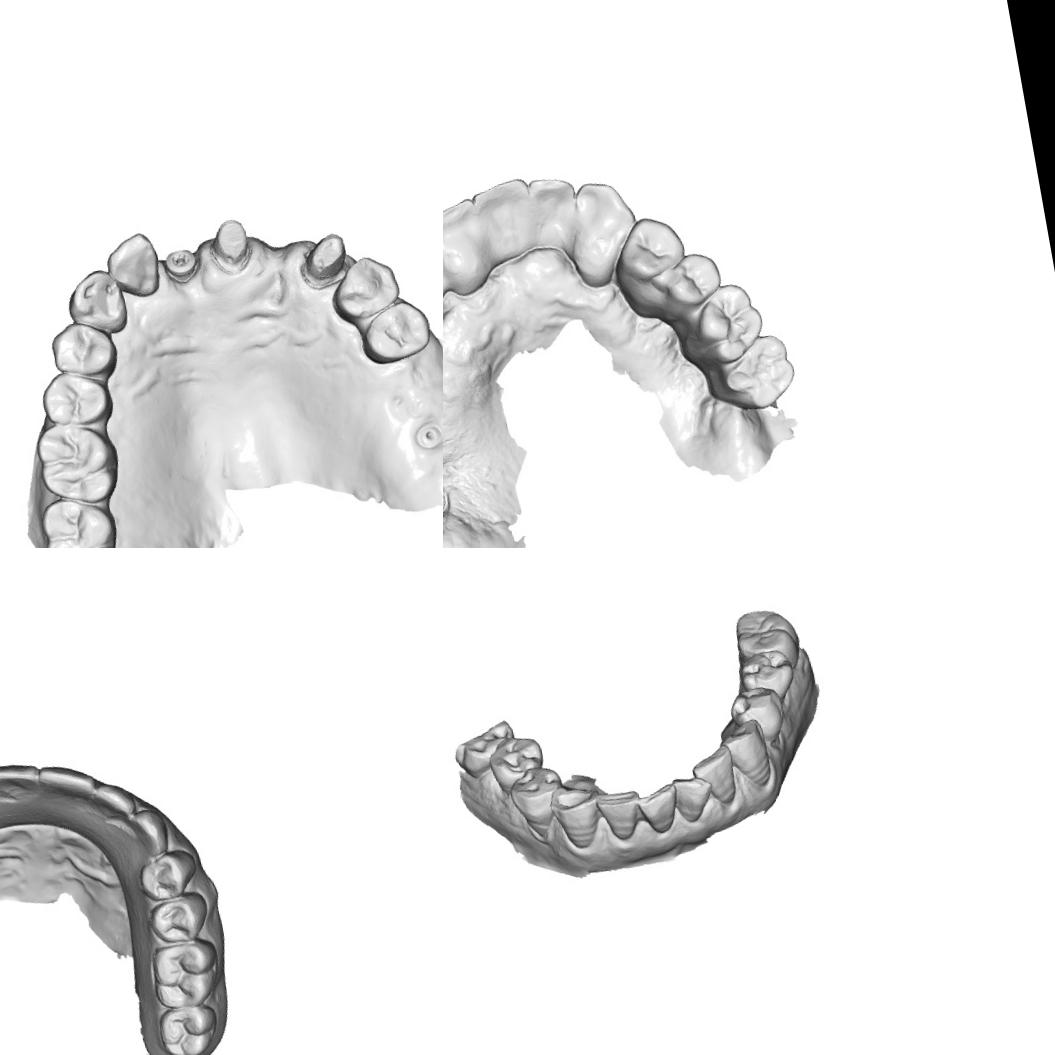canine: (568, 174, 642, 267), (59, 264, 131, 341), (716, 714, 782, 794), (547, 780, 604, 853), (120, 804, 174, 862)
crown: (294, 228, 356, 289), (204, 214, 256, 276)
implant_minus: (443, 474, 462, 527)
implant_plus: (158, 244, 202, 288)
incisor: (470, 175, 546, 268), (443, 192, 497, 303), (524, 171, 587, 259), (100, 228, 166, 303), (686, 742, 742, 812), (34, 754, 100, 810), (594, 786, 646, 846), (87, 774, 142, 829), (634, 779, 684, 837), (670, 770, 716, 827), (0, 752, 44, 801)
molar: (674, 276, 774, 376), (698, 330, 802, 419), (29, 416, 123, 510), (146, 933, 228, 1013), (727, 601, 807, 677), (34, 488, 125, 548), (152, 998, 223, 1055)
premolar: (604, 209, 692, 291), (323, 250, 405, 326), (354, 295, 435, 369), (35, 363, 116, 431), (45, 314, 120, 384), (482, 727, 554, 799), (658, 247, 728, 317), (144, 888, 218, 948), (507, 761, 566, 833), (724, 682, 788, 748), (133, 844, 201, 906), (732, 645, 797, 709)
